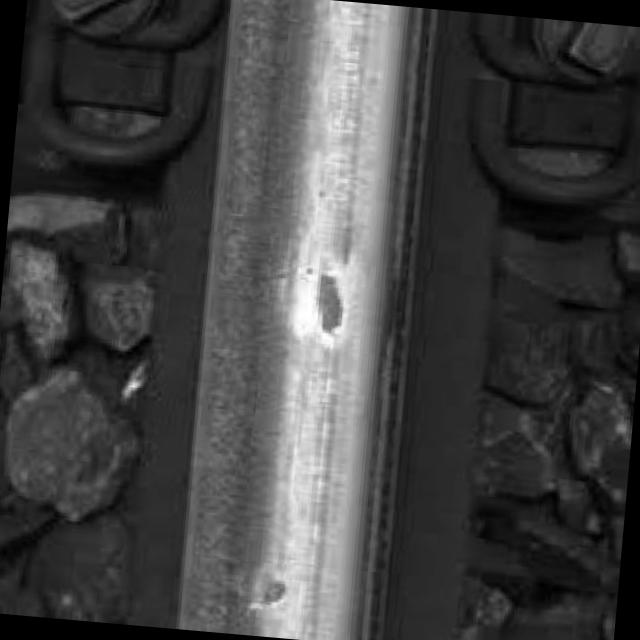defective: (219, 152, 404, 640)
